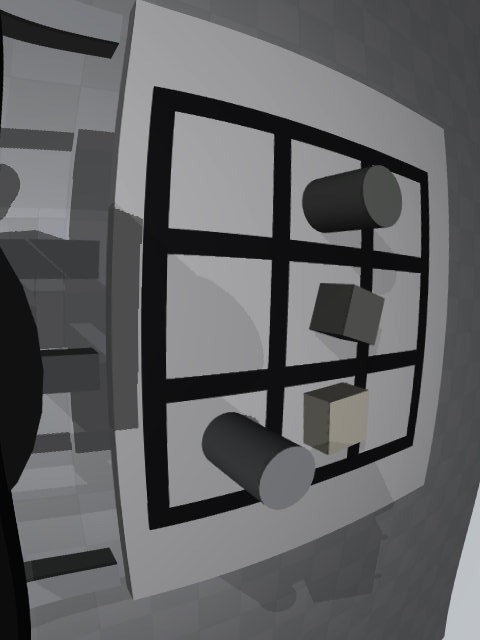can: (202, 412, 316, 510)
cube: (309, 283, 385, 346)
cylinder: (302, 165, 402, 233)
foam: (303, 383, 369, 455)
